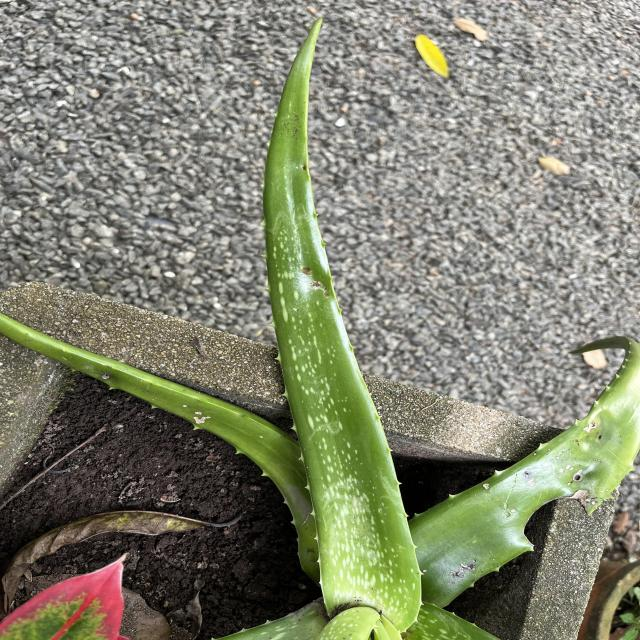Aloe vera: (256, 8, 428, 630)
